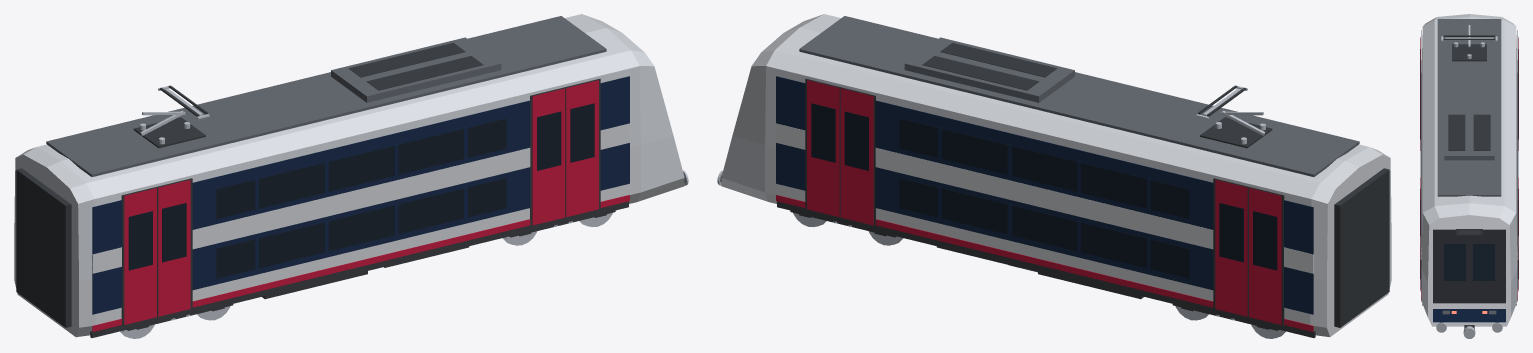
The model's file is rer_c_z2n__tail.glb.
The picture shows the model from 3 angles, left to right: view 1: azimuth 30°, elevation 25°; view 2: azimuth 150°, elevation 25°; view 3: azimuth 270°, elevation 25°; orthographic projection. The views are drawn at different scales.
Visible parts, largest first — view 1: rer_c_z2n_tail; view 2: rer_c_z2n_tail; view 3: rer_c_z2n_tail.
Part boxes in pixels (bbox=[...]): rer_c_z2n_tail: bbox=[14, 14, 688, 338]; rer_c_z2n_tail: bbox=[717, 14, 1391, 338]; rer_c_z2n_tail: bbox=[1420, 14, 1518, 338].
Bounding box in the file's own units: 15.37 × 4.88 × 2.97.
